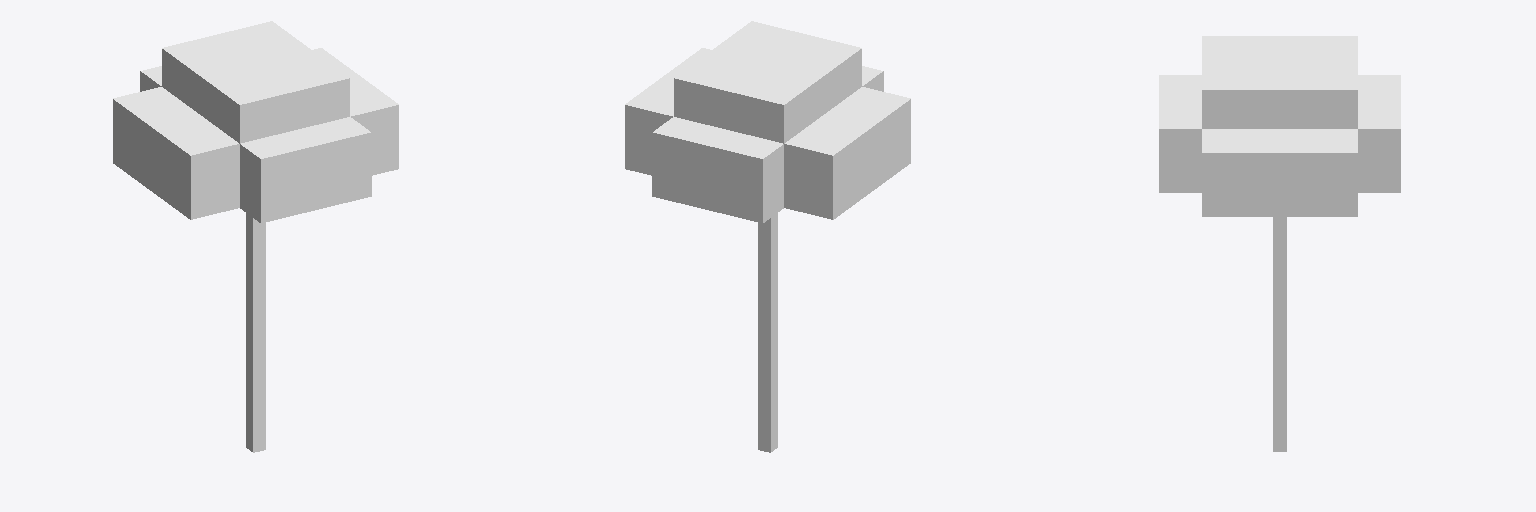
Rendered from Boom1_Cyber.obj.
3 views of the same model, side by side, from view 1: azimuth 30°, elevation 25°; view 2: azimuth 150°, elevation 25°; view 3: azimuth 270°, elevation 25° (orthographic).
Visible parts, largest first — view 1: Boom1_Cyber; view 2: Boom1_Cyber; view 3: Boom1_Cyber.
Part boxes in pixels (x1,y1,x2,y2): Boom1_Cyber: (113,21,398,452); Boom1_Cyber: (625,21,910,452); Boom1_Cyber: (1159,36,1400,451).
Size of the model in its own units: 17 by 30 by 17.